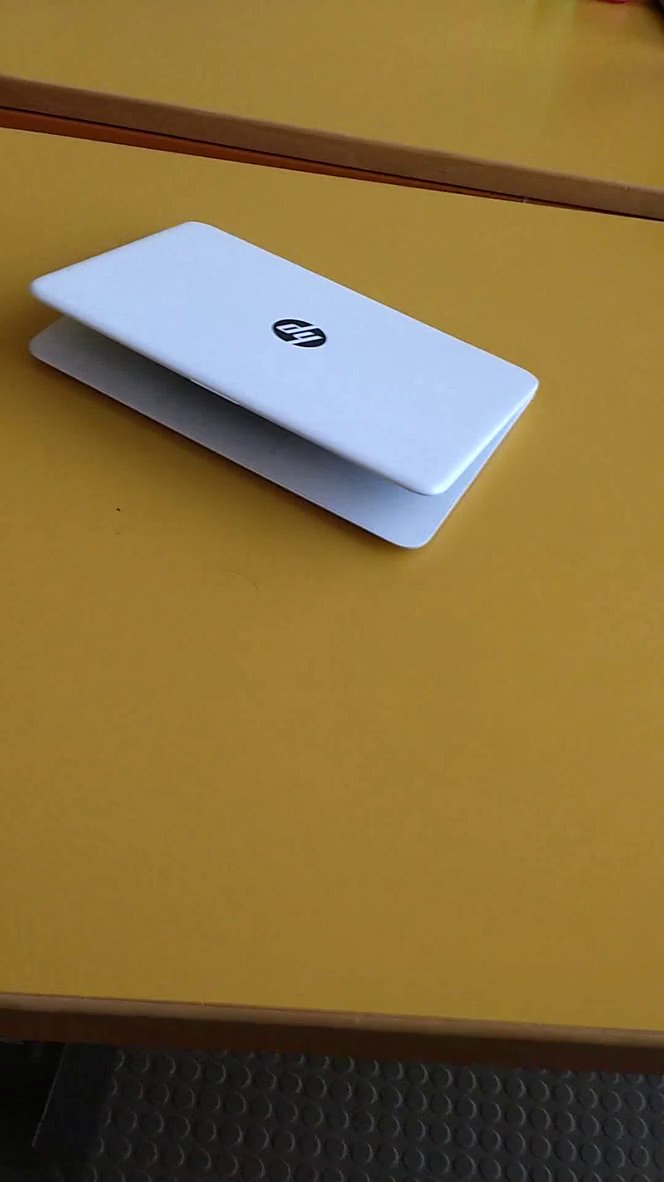laptop: (16, 208, 575, 578)
